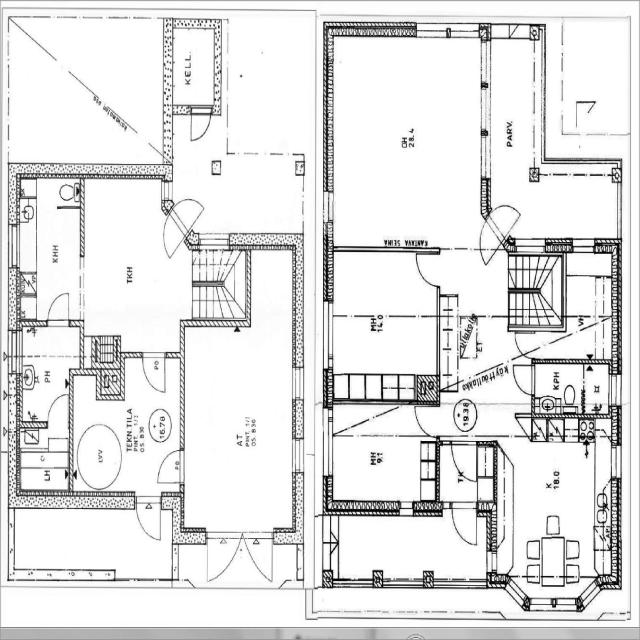door: (205, 528, 244, 581), (243, 528, 275, 582), (134, 493, 163, 543), (450, 500, 479, 548), (140, 349, 168, 396), (412, 246, 442, 289), (450, 439, 478, 484), (155, 446, 185, 486), (44, 390, 72, 432), (44, 288, 72, 327), (478, 220, 500, 268), (511, 360, 537, 398), (412, 400, 438, 436), (511, 325, 537, 361), (162, 214, 184, 256), (189, 105, 213, 143)
window: (318, 296, 337, 373), (319, 405, 336, 482), (526, 592, 574, 613), (8, 324, 24, 382), (433, 573, 484, 591), (576, 578, 602, 612), (321, 184, 338, 232), (7, 222, 22, 272), (77, 250, 89, 312), (414, 20, 451, 40), (289, 362, 306, 405), (382, 574, 425, 591), (290, 434, 306, 478), (445, 21, 481, 39), (513, 236, 547, 255), (570, 234, 598, 255), (610, 441, 623, 482), (346, 575, 374, 590), (607, 370, 617, 405), (397, 499, 416, 517)
zone: (329, 36, 487, 258), (182, 330, 296, 532), (327, 249, 438, 403), (81, 179, 176, 349), (497, 441, 607, 576), (224, 16, 312, 158), (326, 401, 438, 510), (484, 33, 540, 198), (18, 186, 84, 323), (558, 16, 631, 138), (16, 324, 74, 428), (170, 27, 221, 110), (17, 423, 71, 497), (563, 266, 615, 333), (532, 362, 584, 413), (583, 362, 612, 412)
